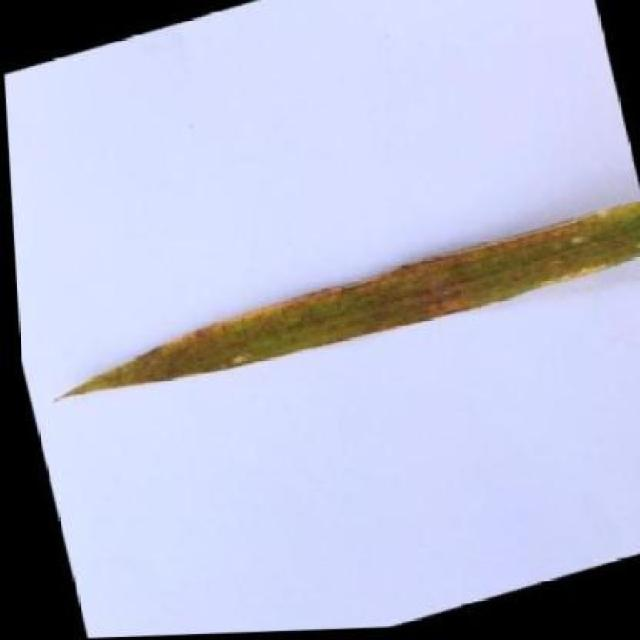Rice False Smut: (54, 206, 640, 399)
